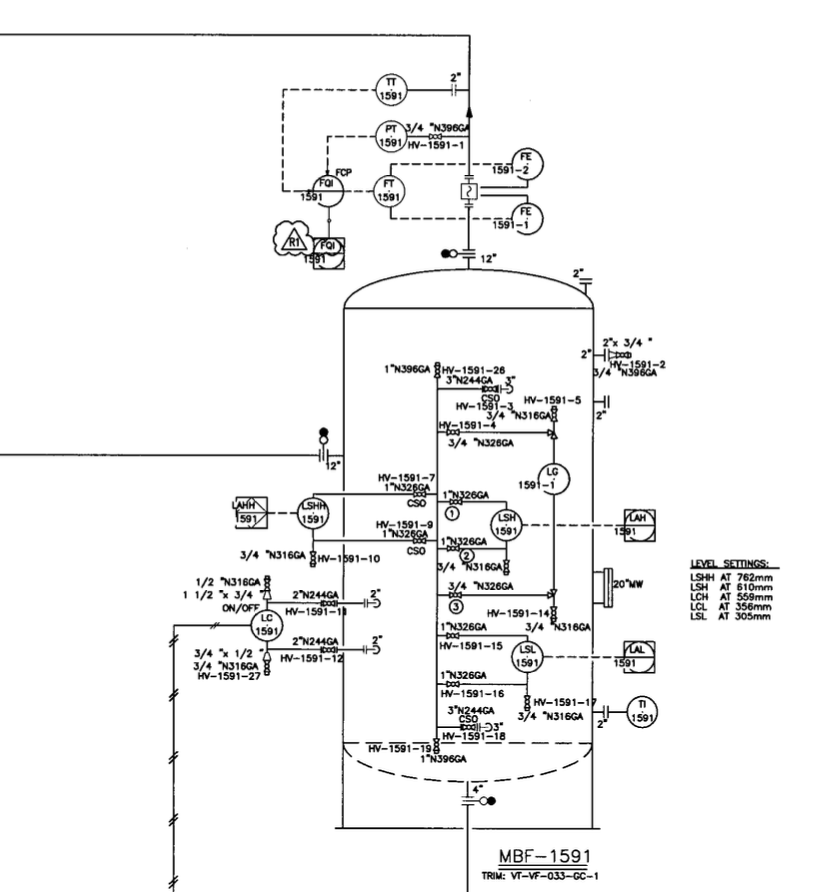Instrument-offset: (486, 144, 552, 184), (488, 200, 550, 238), (294, 171, 351, 211), (519, 459, 573, 498), (292, 493, 334, 537), (623, 690, 664, 734), (484, 506, 526, 544), (367, 172, 406, 211), (372, 68, 410, 108), (244, 609, 288, 643), (368, 118, 408, 155), (508, 635, 544, 676)
Instrument-square-offset: (610, 501, 662, 549), (298, 234, 352, 280), (226, 487, 274, 537), (609, 633, 662, 677)
